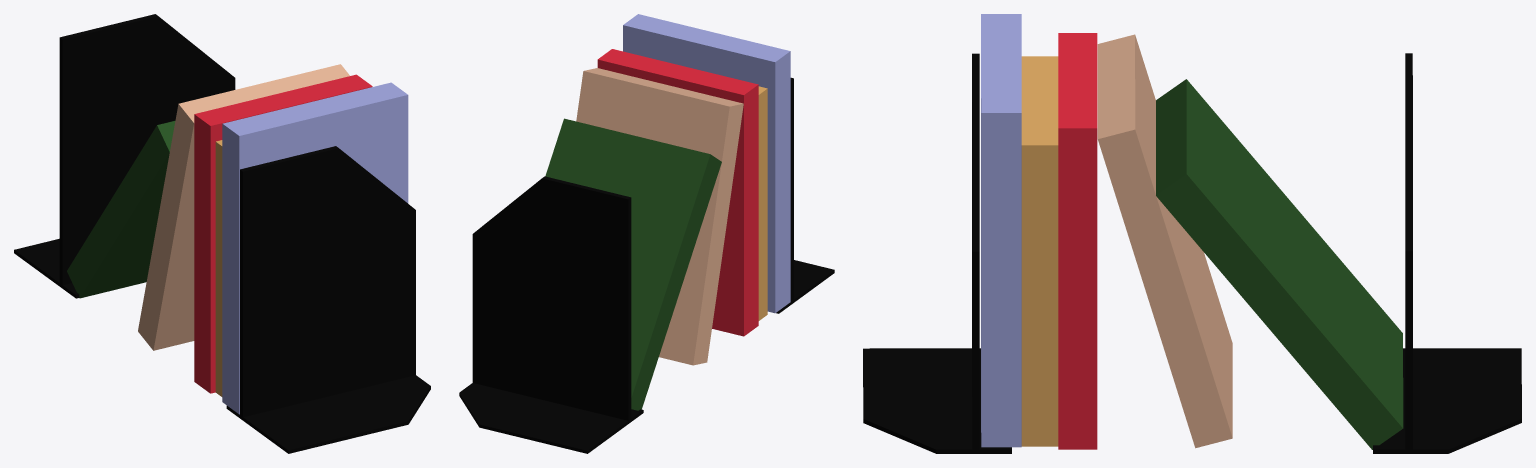
Rendered from Bookcase.fbx.
3 renders of one model, left to right at view 1: azimuth 30°, elevation 25°; view 2: azimuth 150°, elevation 25°; view 3: azimuth 270°, elevation 25°, orthographic. The views are drawn at different scales.
Parts seen in each view (by area): view 1: bookshelf.001; view 2: bookshelf.001; view 3: bookshelf.001.
Part boxes in pixels (bbox=[...]): bookshelf.001: bbox=[14, 14, 430, 453]; bookshelf.001: bbox=[459, 14, 834, 453]; bookshelf.001: bbox=[863, 14, 1521, 453].
Size of the model in its own units: 122 by 190 by 334.
